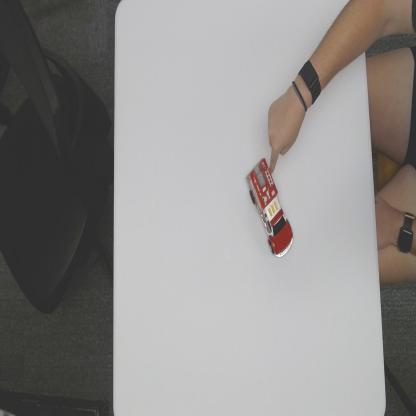Arm: (323, 0, 367, 81)
Firetruck: (245, 158, 294, 260)
Hand: (267, 85, 306, 174)
